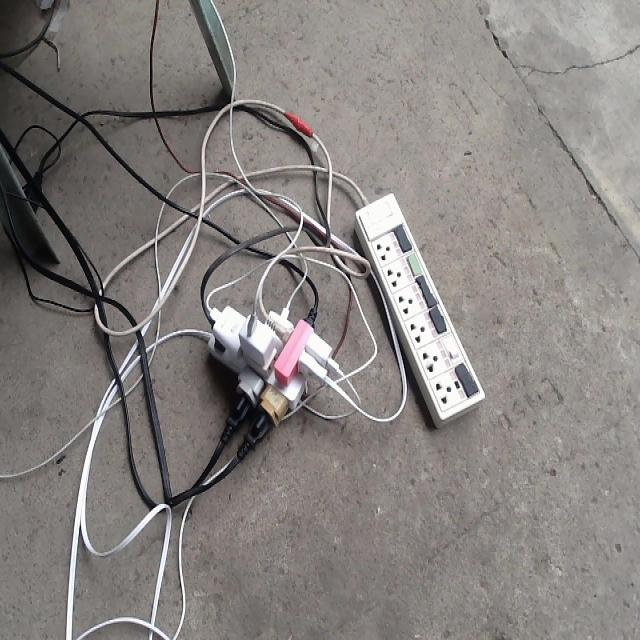-: (197, 294, 333, 442)
